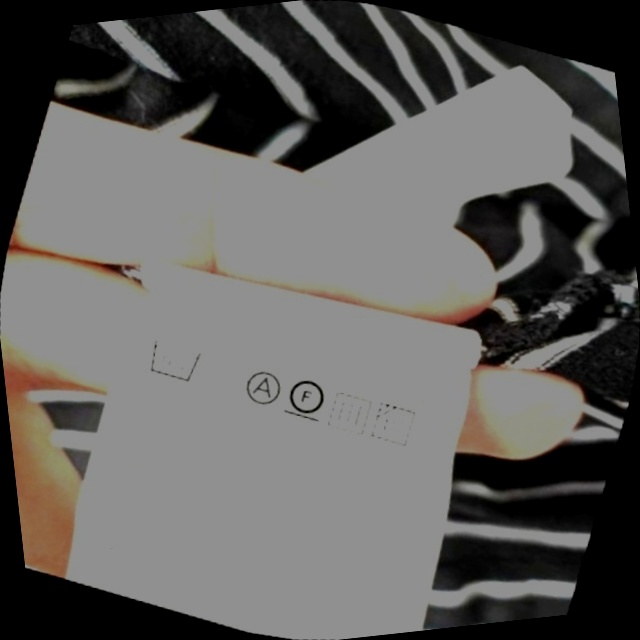95C: (137, 328, 213, 394)
bleach: (193, 345, 248, 404)
drip_dry: (318, 381, 383, 444)
drip_dry_in_shade: (363, 393, 429, 458)
dry_clean: (234, 359, 291, 415)
dry_clean_petrol_only: (277, 365, 338, 430)
